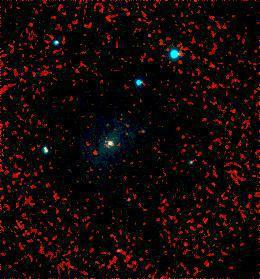star: (132, 117, 162, 147)
